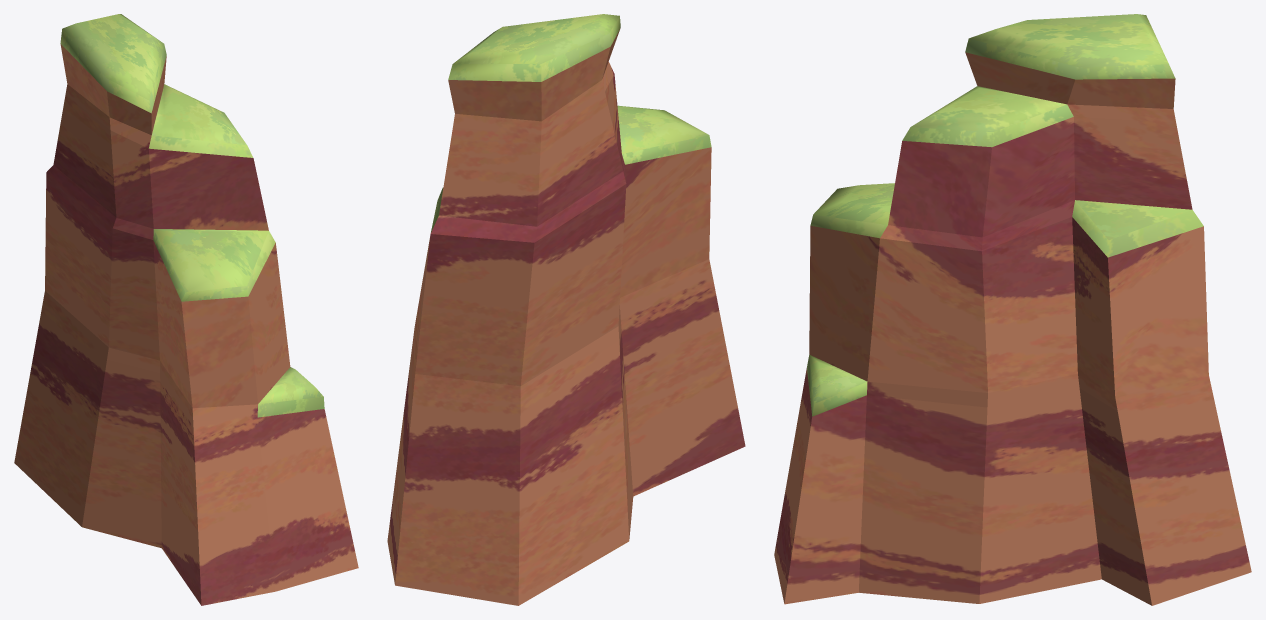
Rendered from rock2.fbx.
3 views of the same model, side by side, from view 1: azimuth 30°, elevation 25°; view 2: azimuth 150°, elevation 25°; view 3: azimuth 270°, elevation 25° (orthographic). The views are drawn at different scales.
Parts seen in each view (by area): view 1: rock2; view 2: rock2; view 3: rock2.
Boxes of the visible parts, box(x1,y1,x2,y2) form: rock2: box(14, 14, 358, 605); rock2: box(387, 14, 745, 605); rock2: box(774, 14, 1251, 605).
Bounding box in the file's own units: 253 × 654 × 541.
